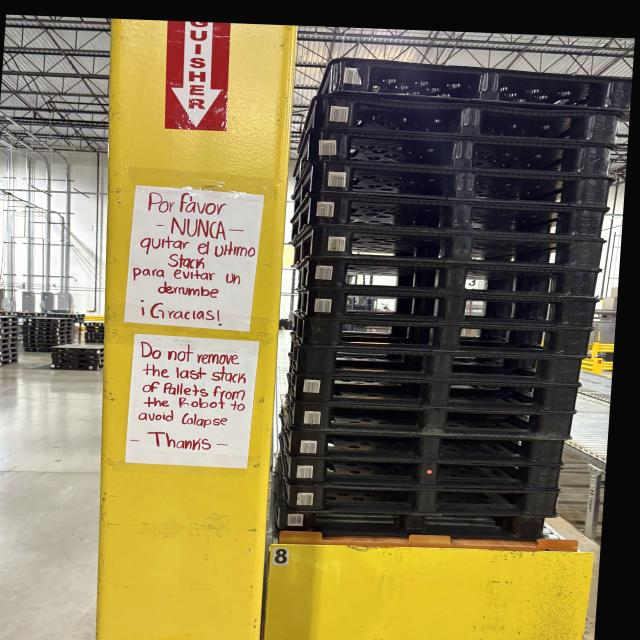igps: (321, 53, 637, 116), (308, 93, 623, 148), (316, 154, 618, 211), (310, 125, 624, 179), (302, 256, 607, 302), (305, 195, 613, 240), (295, 315, 599, 360), (313, 228, 610, 270), (293, 345, 593, 386), (299, 288, 605, 328), (286, 374, 585, 414), (287, 402, 580, 438), (286, 429, 576, 465), (286, 454, 568, 490), (280, 509, 549, 544), (284, 482, 566, 515), (50, 343, 105, 354), (49, 363, 104, 371), (50, 352, 104, 360), (21, 316, 76, 323), (21, 322, 76, 328), (21, 326, 76, 332), (51, 359, 105, 365), (40, 312, 86, 318), (21, 331, 75, 336), (22, 335, 75, 340), (22, 340, 74, 344), (0, 326, 24, 334), (0, 358, 19, 368), (0, 314, 20, 322), (0, 342, 20, 350), (0, 353, 20, 361), (13, 311, 44, 316), (22, 344, 59, 348), (23, 348, 52, 353), (0, 348, 19, 355), (84, 328, 105, 334), (0, 338, 20, 344), (0, 322, 23, 327), (0, 333, 20, 338), (82, 322, 105, 326), (84, 332, 105, 336), (84, 336, 105, 340), (85, 326, 105, 330), (85, 340, 105, 343), (73, 317, 85, 322)
